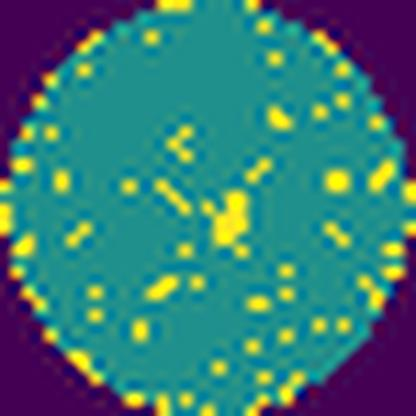Center: (201, 185, 257, 258)
